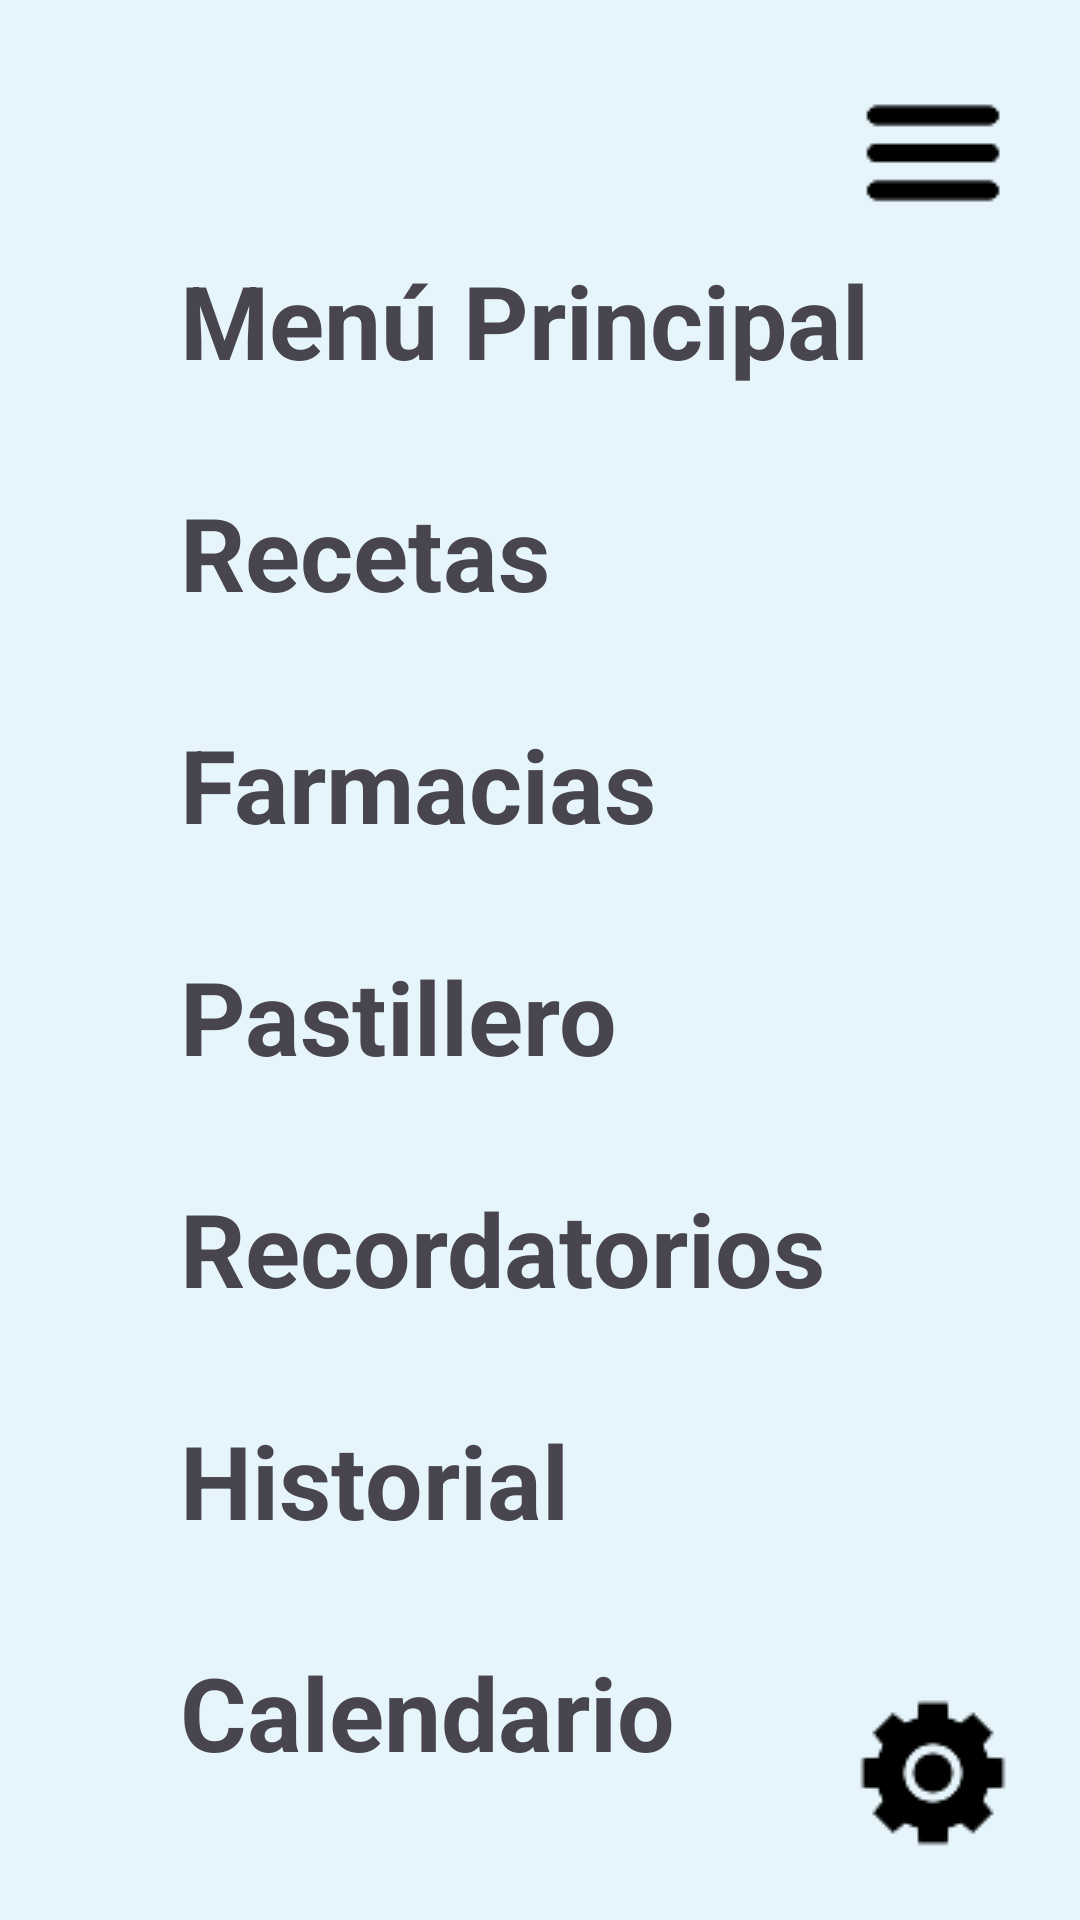

Icon click points for this 1080w x 1920h phone screenshot, format (x=x, y=y):
ajustes: (x=933, y=1773)
barras: (x=933, y=153)
